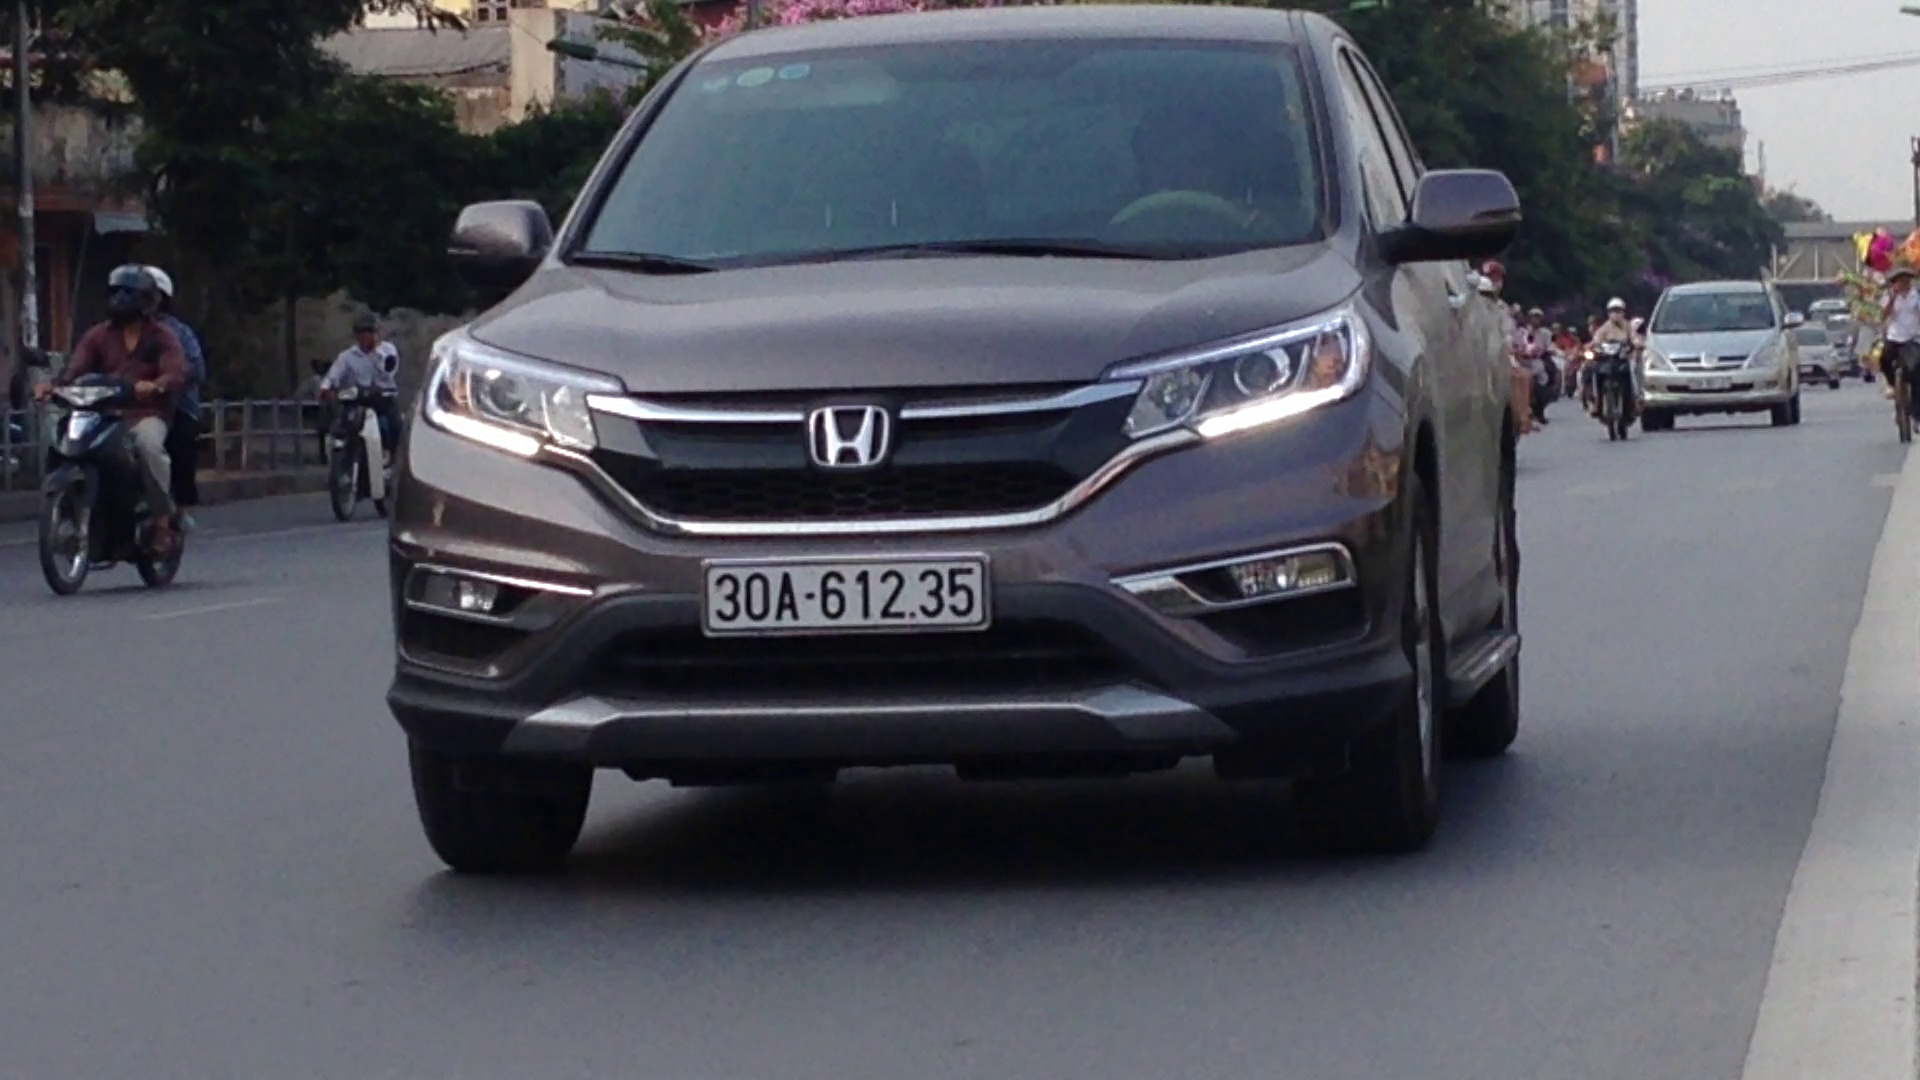vehicle-plate: (698, 549, 996, 638)
